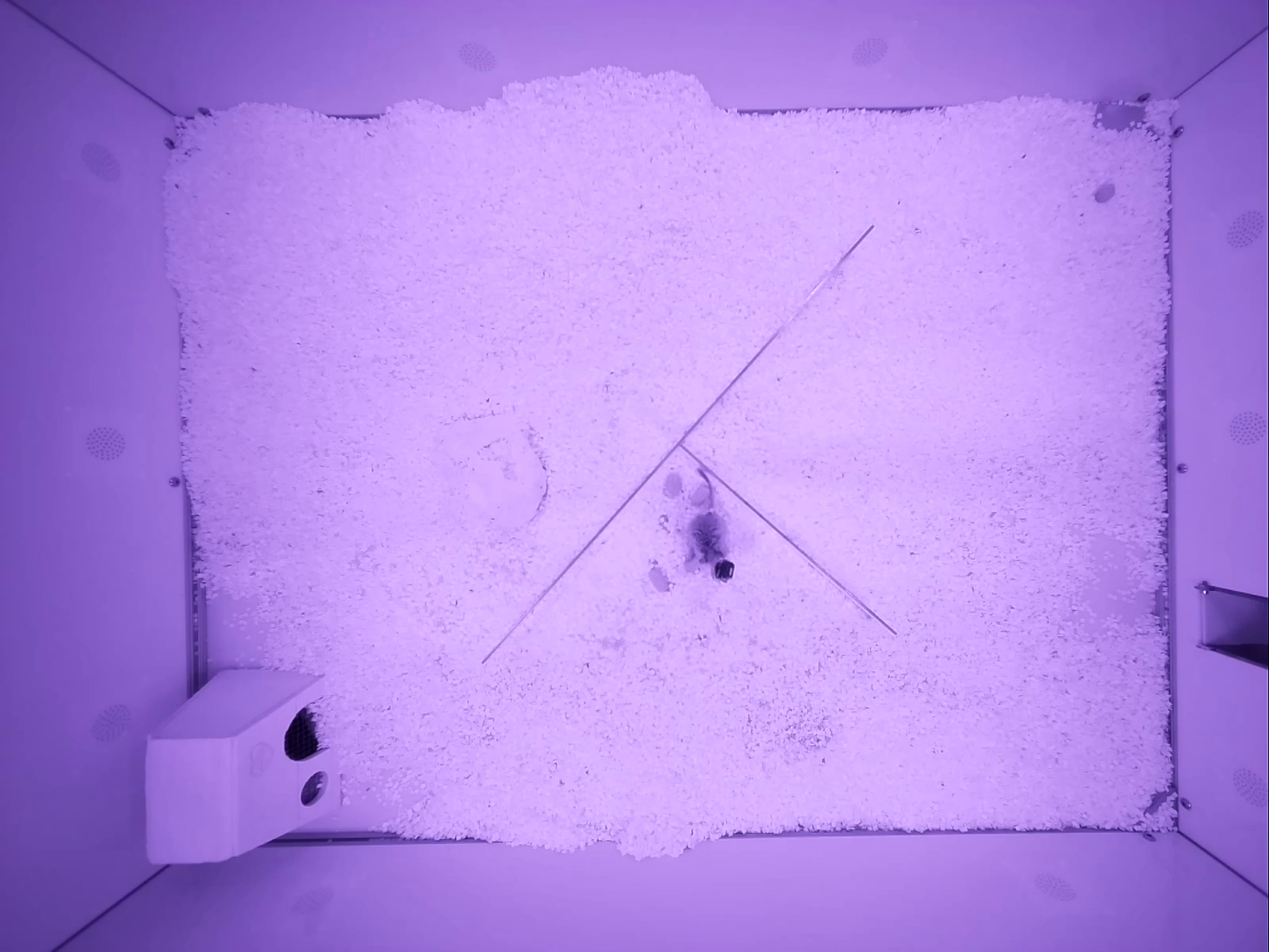adult_back: (690, 469, 734, 580)
